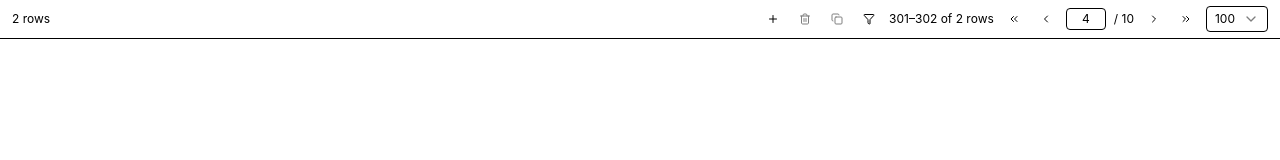
Scenario: DataGridToolbar — Sprint 179 paradigm-aware labels (AC-179-03) › PageJumpInput (Sprint 289) › 범위 밖 입력 (0, total+1, NaN) 은 commit 없이 revert
Replace the text in the number field named "Jump to page" with "99" at (1086, 19), box [1066,8,1106,30]
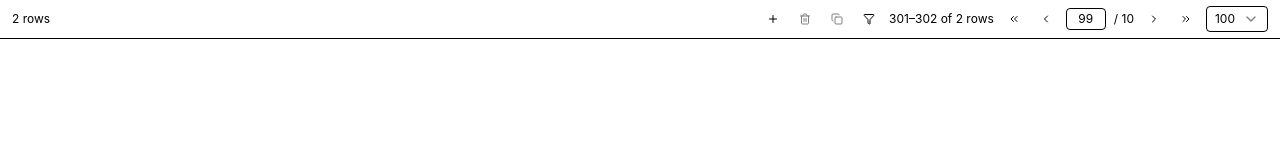
Leave the number field named "Jump to page", box [1066,8,1106,30]
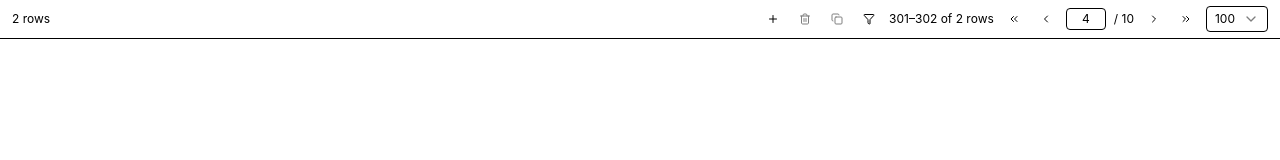
Check: the number field named "Jump to page" holds "4", box [1066,8,1106,30]
